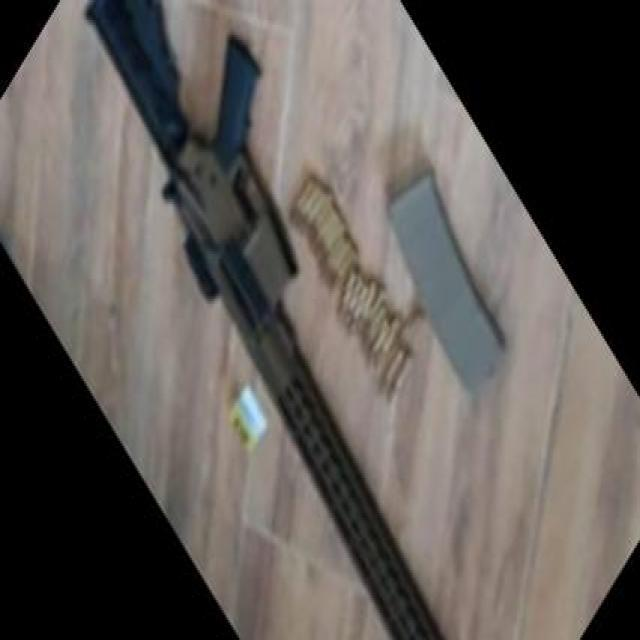weapon: (84, 2, 443, 640)
